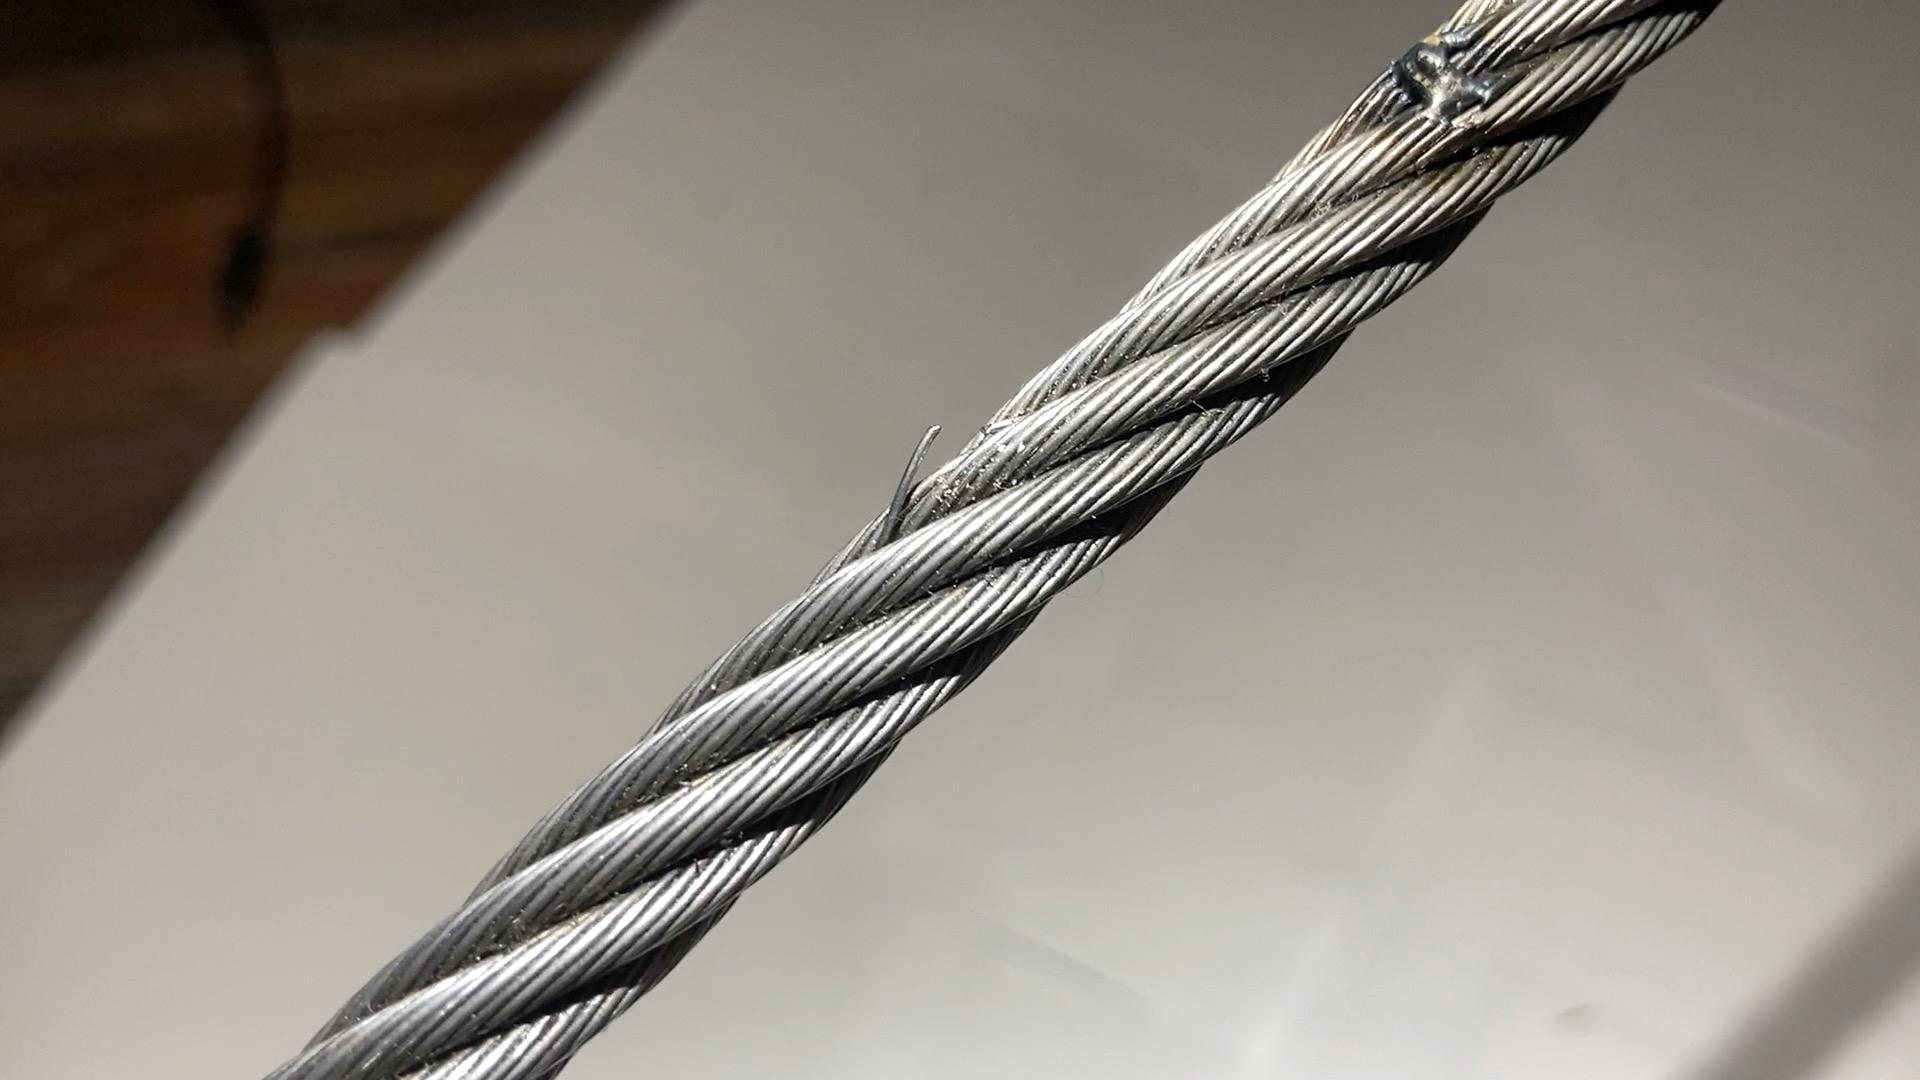break: (861, 417, 964, 517)
thunderbolt: (1371, 47, 1503, 133)
